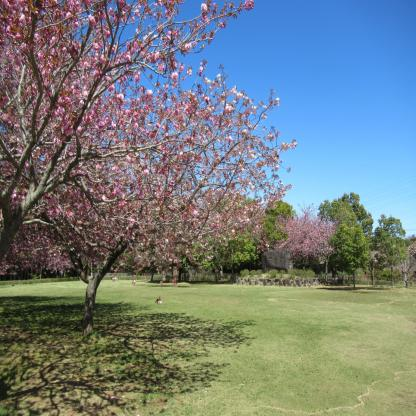YaeSakura: (0, 0, 260, 284), (52, 70, 297, 332), (222, 174, 286, 272), (273, 199, 346, 279), (404, 239, 416, 283)
